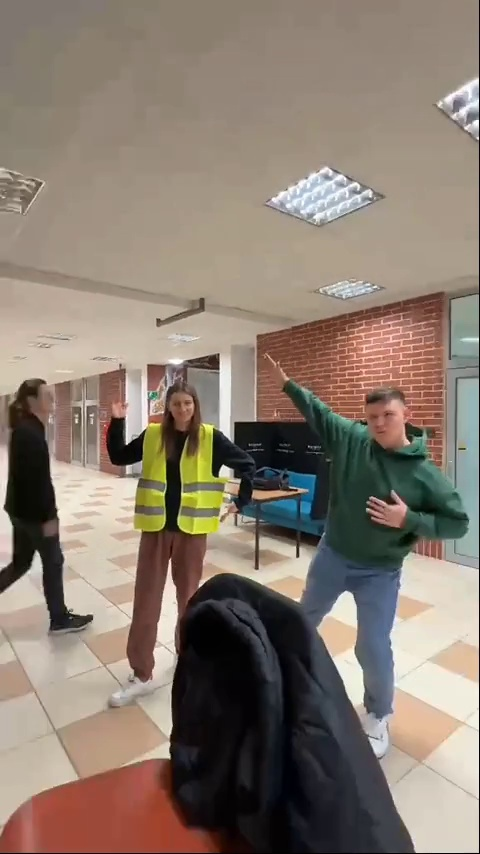no vest: (274, 364, 454, 728), (0, 373, 101, 636)
vest: (115, 371, 243, 711)
